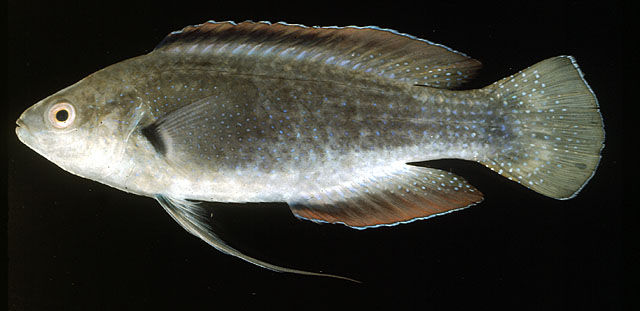fish: (14, 20, 606, 281)
